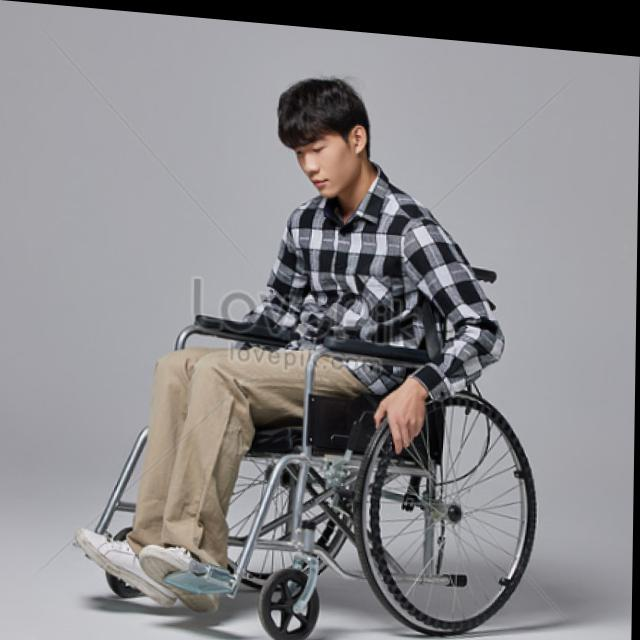wheelchair: (75, 55, 545, 640)
